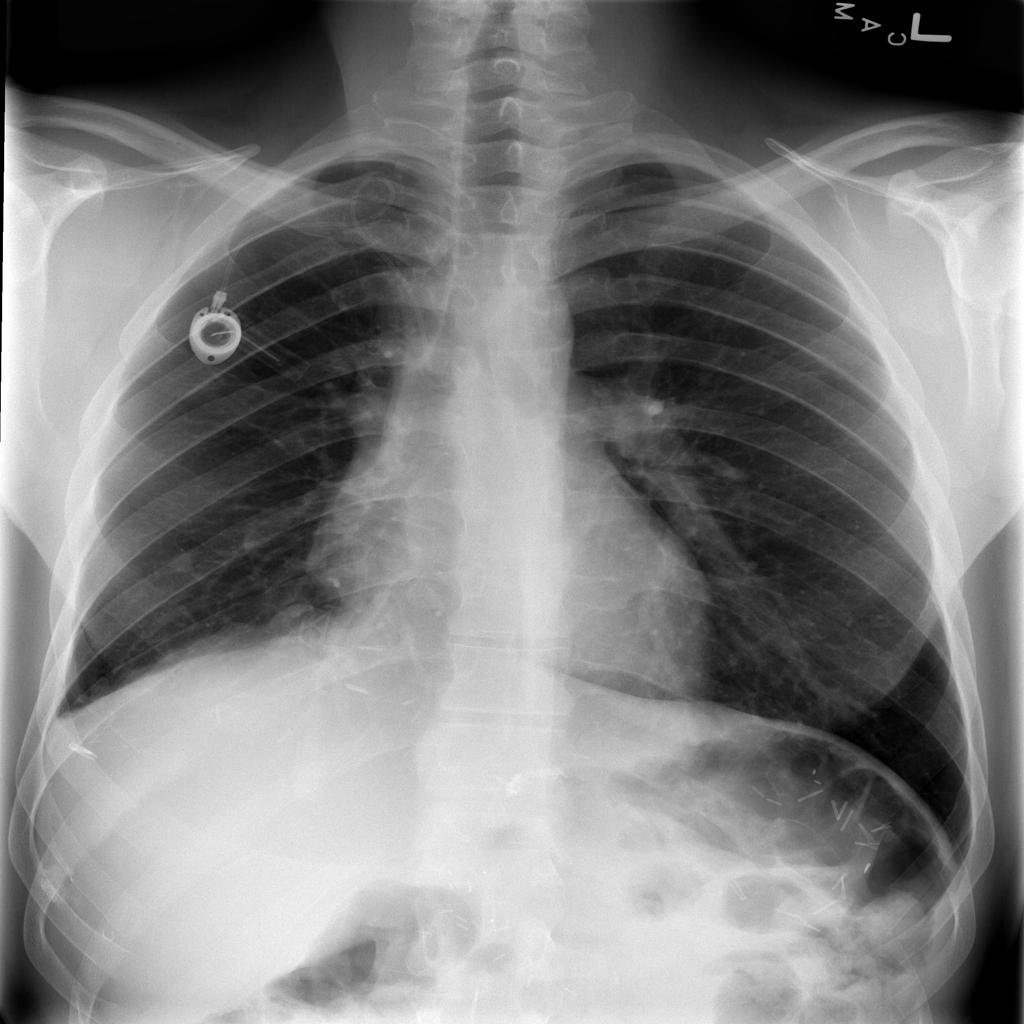nodule: (150, 536, 209, 580)
